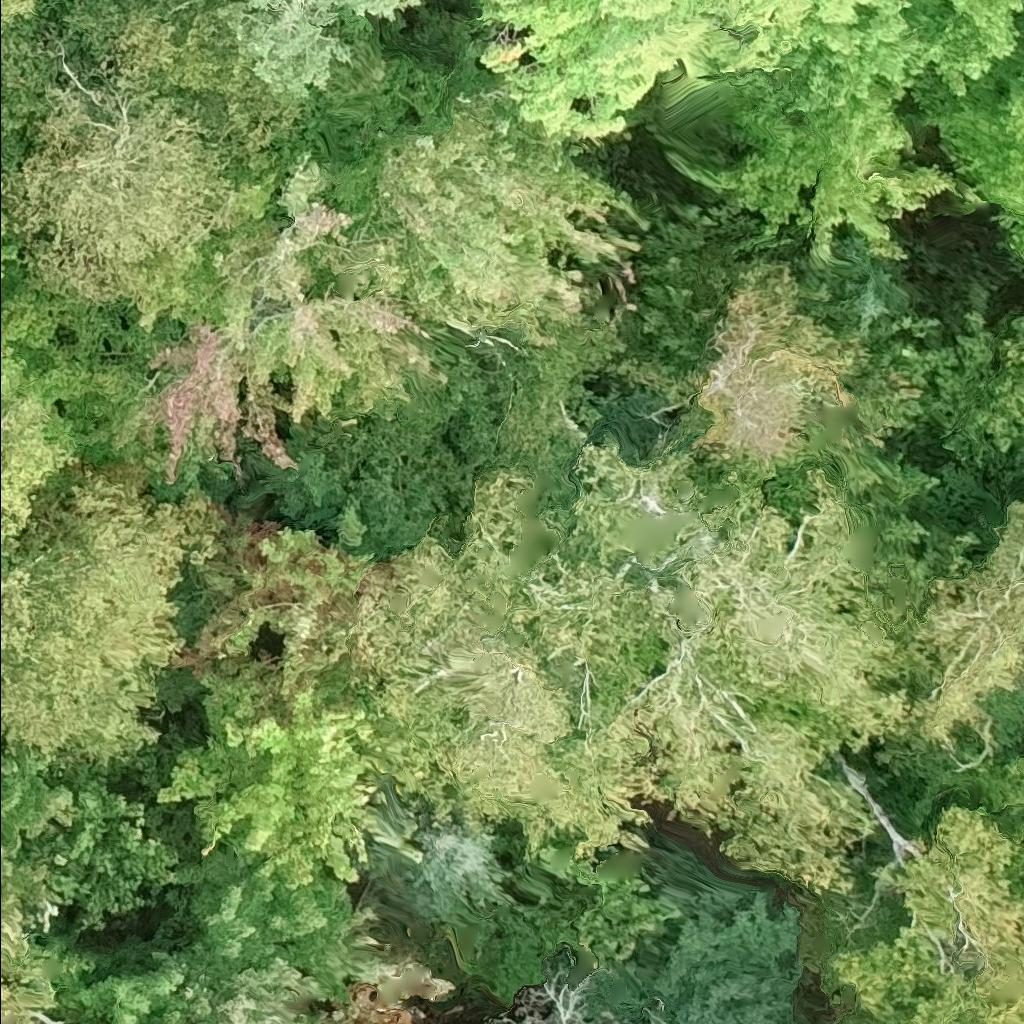crown: (111, 146, 448, 484), (4, 12, 304, 314), (216, 0, 417, 97), (0, 0, 43, 34), (0, 213, 18, 278), (0, 174, 11, 196)
